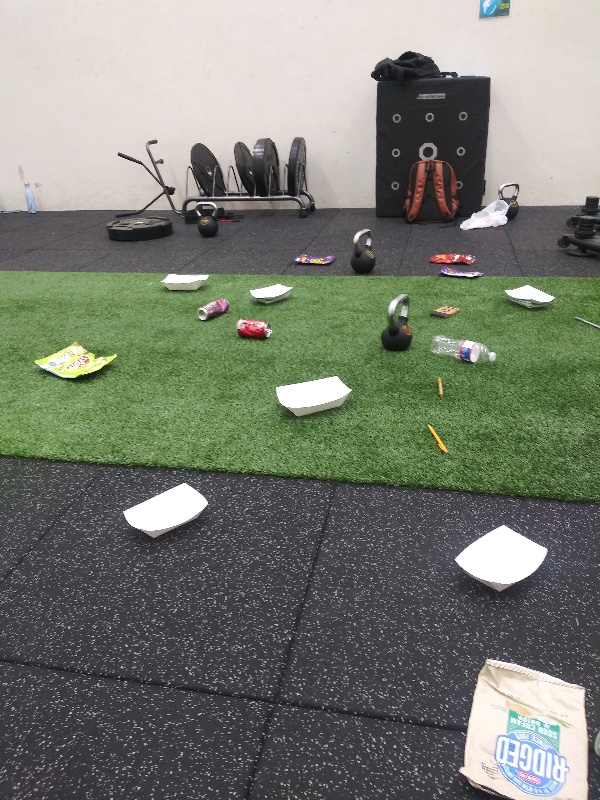bag: (457, 656, 595, 799), (32, 339, 121, 387), (427, 249, 478, 268), (289, 250, 338, 268), (436, 263, 485, 281)
bottle: (424, 332, 502, 370)
can: (194, 297, 233, 323), (232, 317, 275, 340)
plate: (455, 522, 552, 599), (120, 478, 209, 547), (271, 374, 354, 422), (502, 284, 559, 316), (248, 280, 297, 307), (159, 271, 213, 293)
